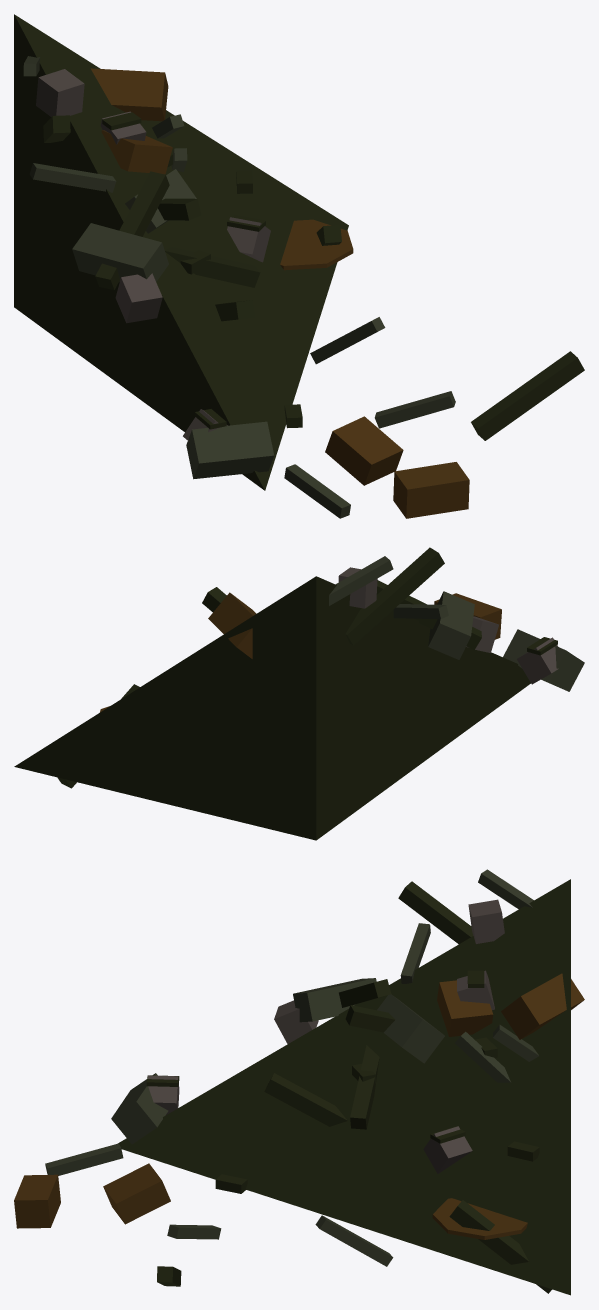
File: SM_PilaZombi_RemateDer_Altura4_s0_LOD0.fbx
3 renders of one model, top to bottom at view 1: azimuth 30°, elevation 25°; view 2: azimuth 150°, elevation 25°; view 3: azimuth 270°, elevation 25°, orthographic. The views are drawn at different scales.
Visible parts, largest first — view 1: SM_pila_zombis_v3_LOD0; view 2: SM_pila_zombis_v3_LOD0; view 3: SM_pila_zombis_v3_LOD0.
Boxes of the visible parts, bbox=[...] form: SM_pila_zombis_v3_LOD0: bbox=[14, 14, 584, 518]; SM_pila_zombis_v3_LOD0: bbox=[14, 547, 584, 840]; SM_pila_zombis_v3_LOD0: bbox=[14, 869, 584, 1295].
Bounding box in the file's own units: 2.99 × 2.27 × 3.97.
